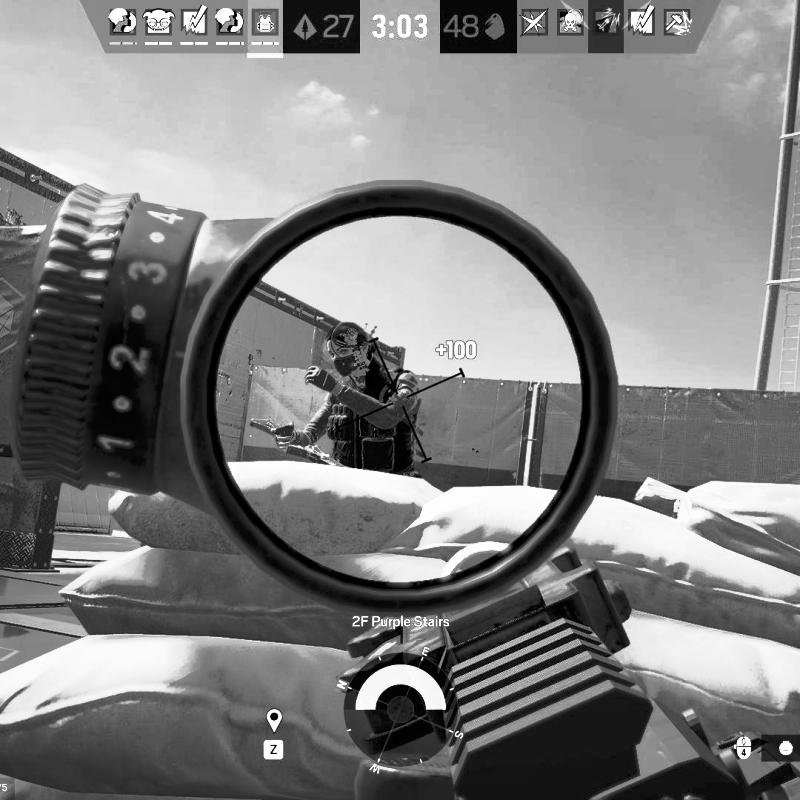Character: (249, 320, 424, 482)
Head: (325, 321, 371, 379)
